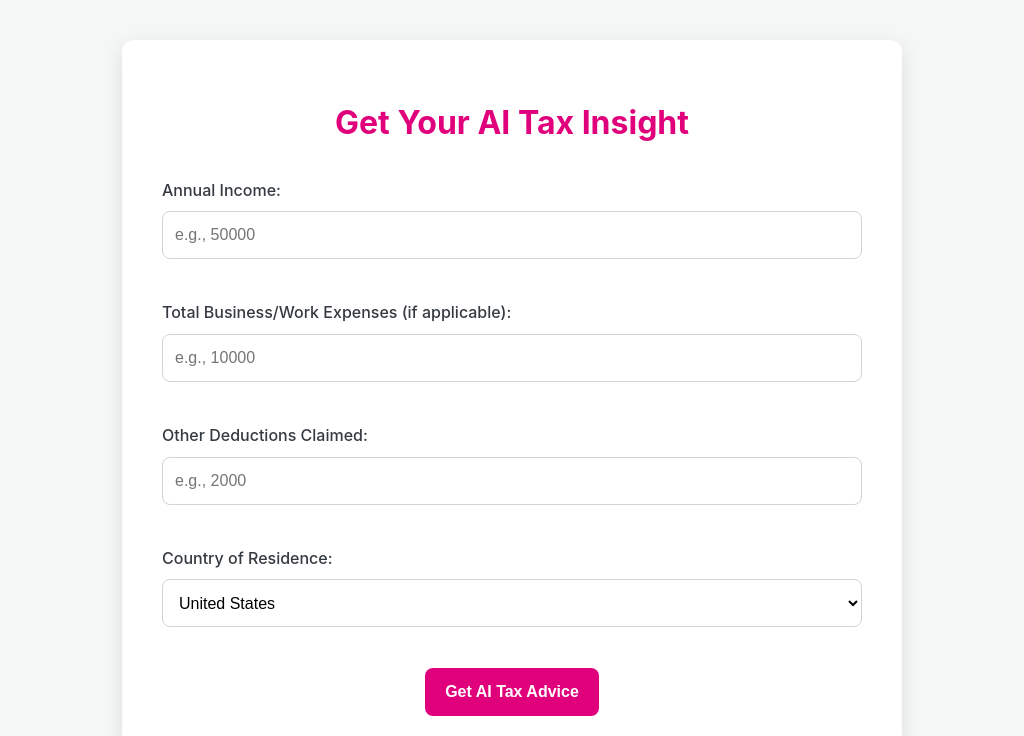
TaxForm Component › shows error if expenses is negative
The image size is (1024, 736).
Type "50000" into the number field labelled "Annual Income:" at (512, 235), box [162,211,862,259]
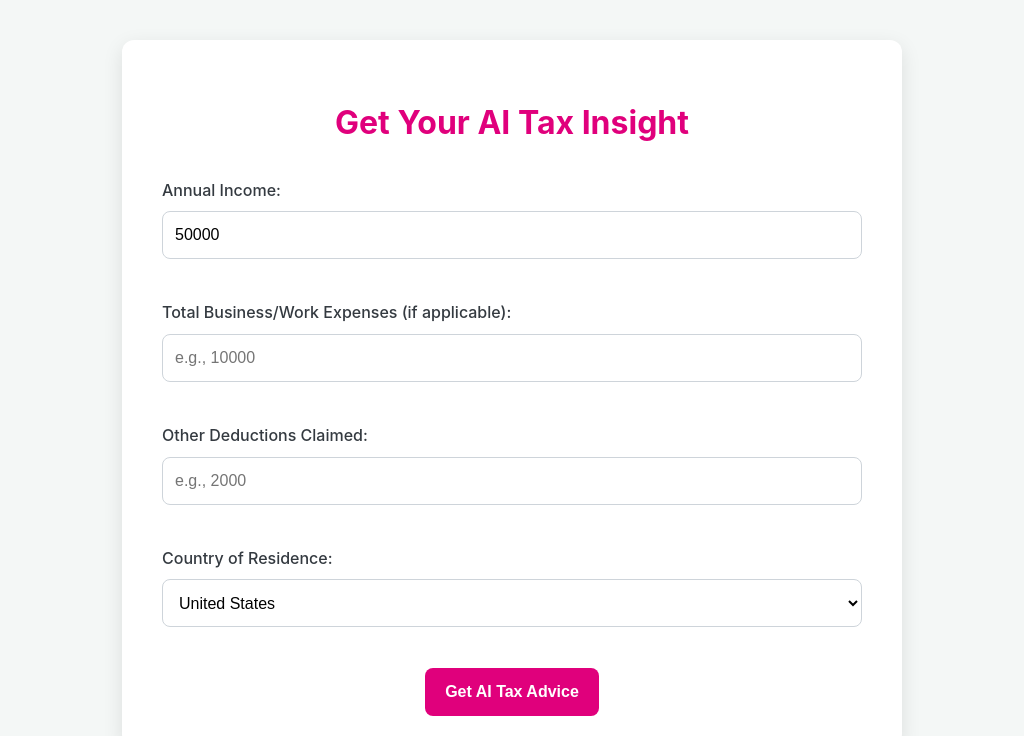
Select "United States" in the dropdown labelled "Country of Residence:" at (512, 603), box [162,579,862,627]
Type "-500" into the number field labelled "Total Business/Work Expenses (if applicable):" at (512, 358), box [162,334,862,382]
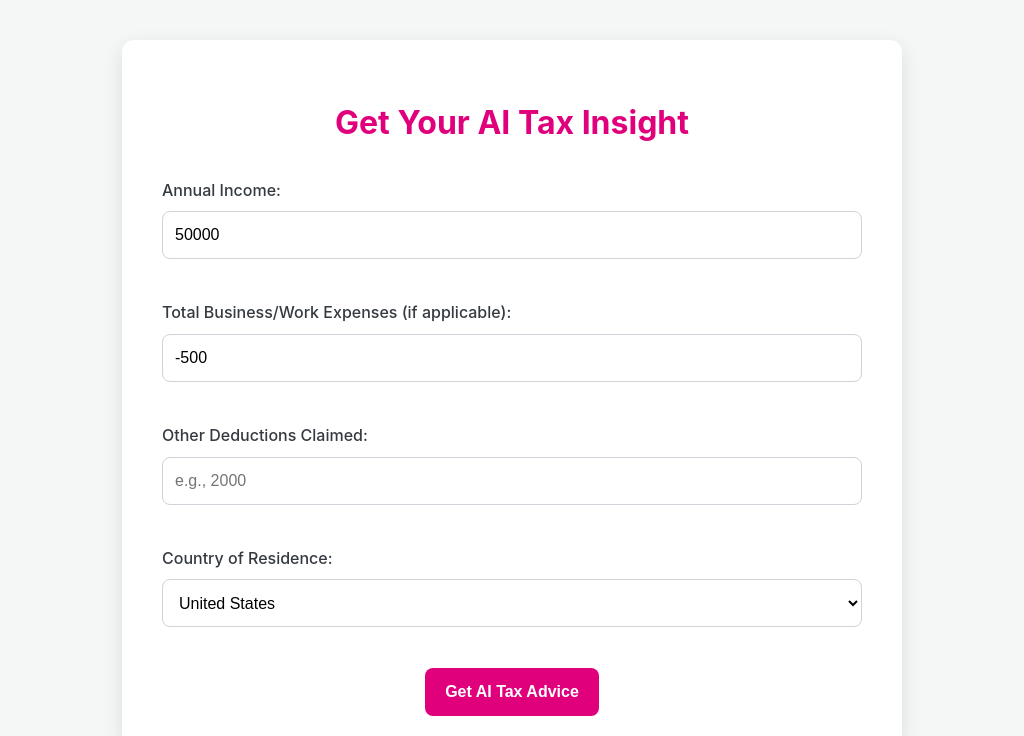
Click the button "Get AI Tax Advice" at (512, 692), box [425,668,599,716]
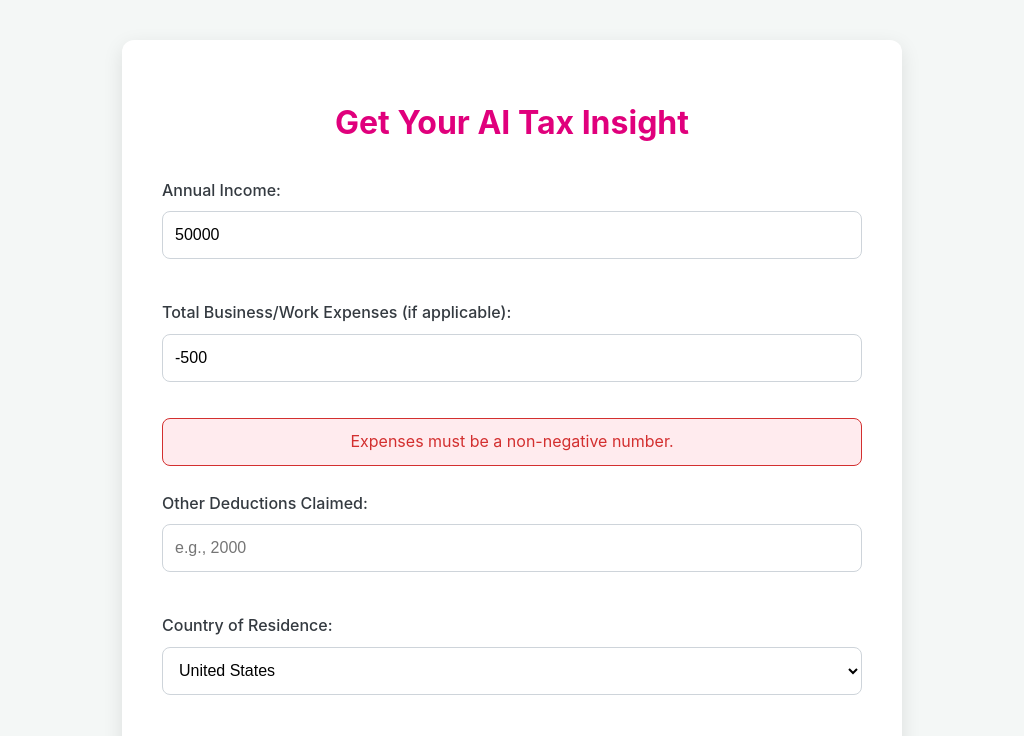
Check: the text "Expenses must be a non-negative number." is shown, box [162,418,862,466]
